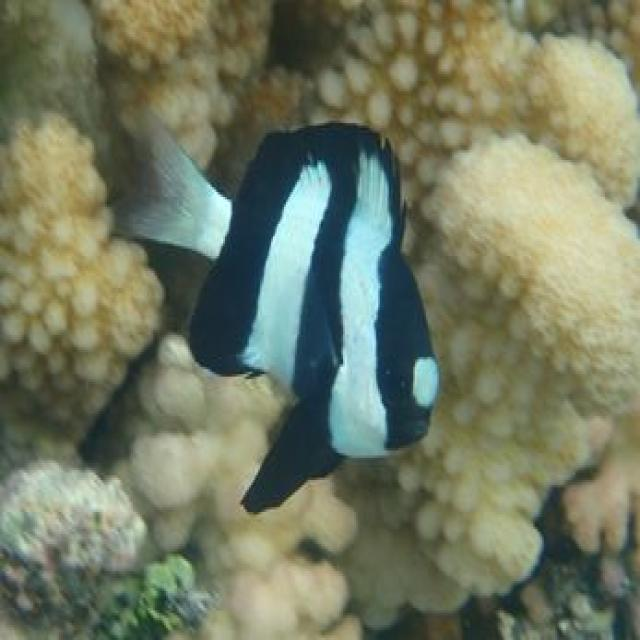ThreeStripedDamselfish: (113, 123, 441, 514)
